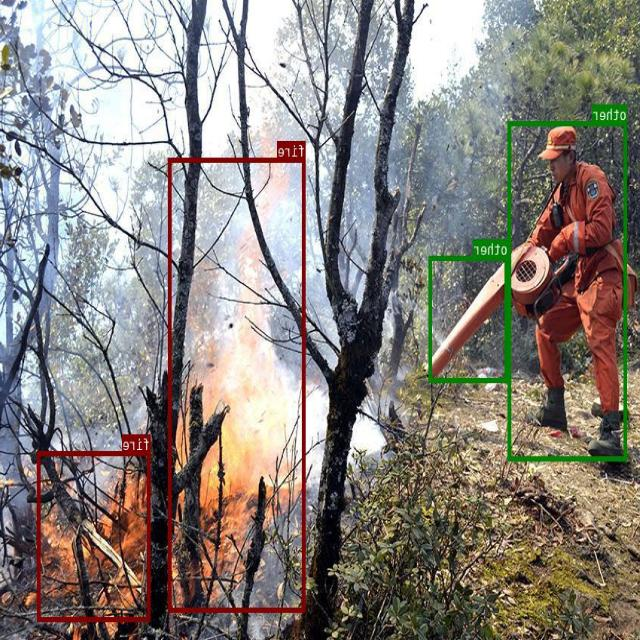fire: (170, 157, 306, 611), (38, 450, 151, 621)
other: (508, 120, 628, 460), (430, 255, 509, 381)
